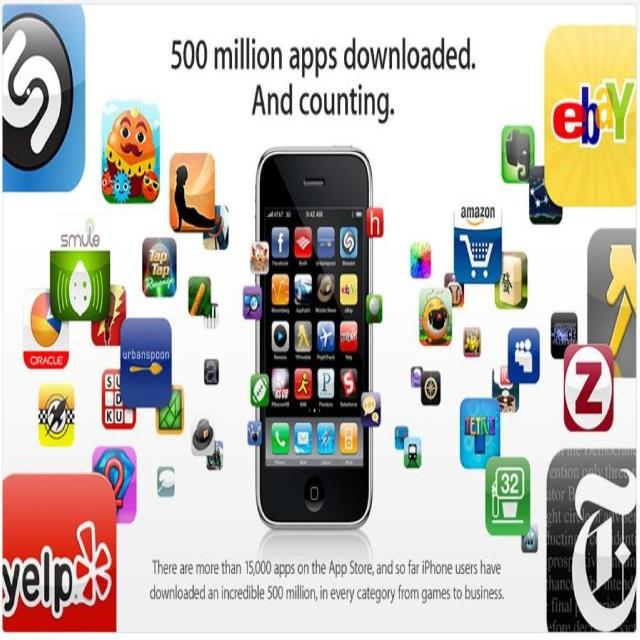Mobile-phone: (244, 134, 390, 532)
